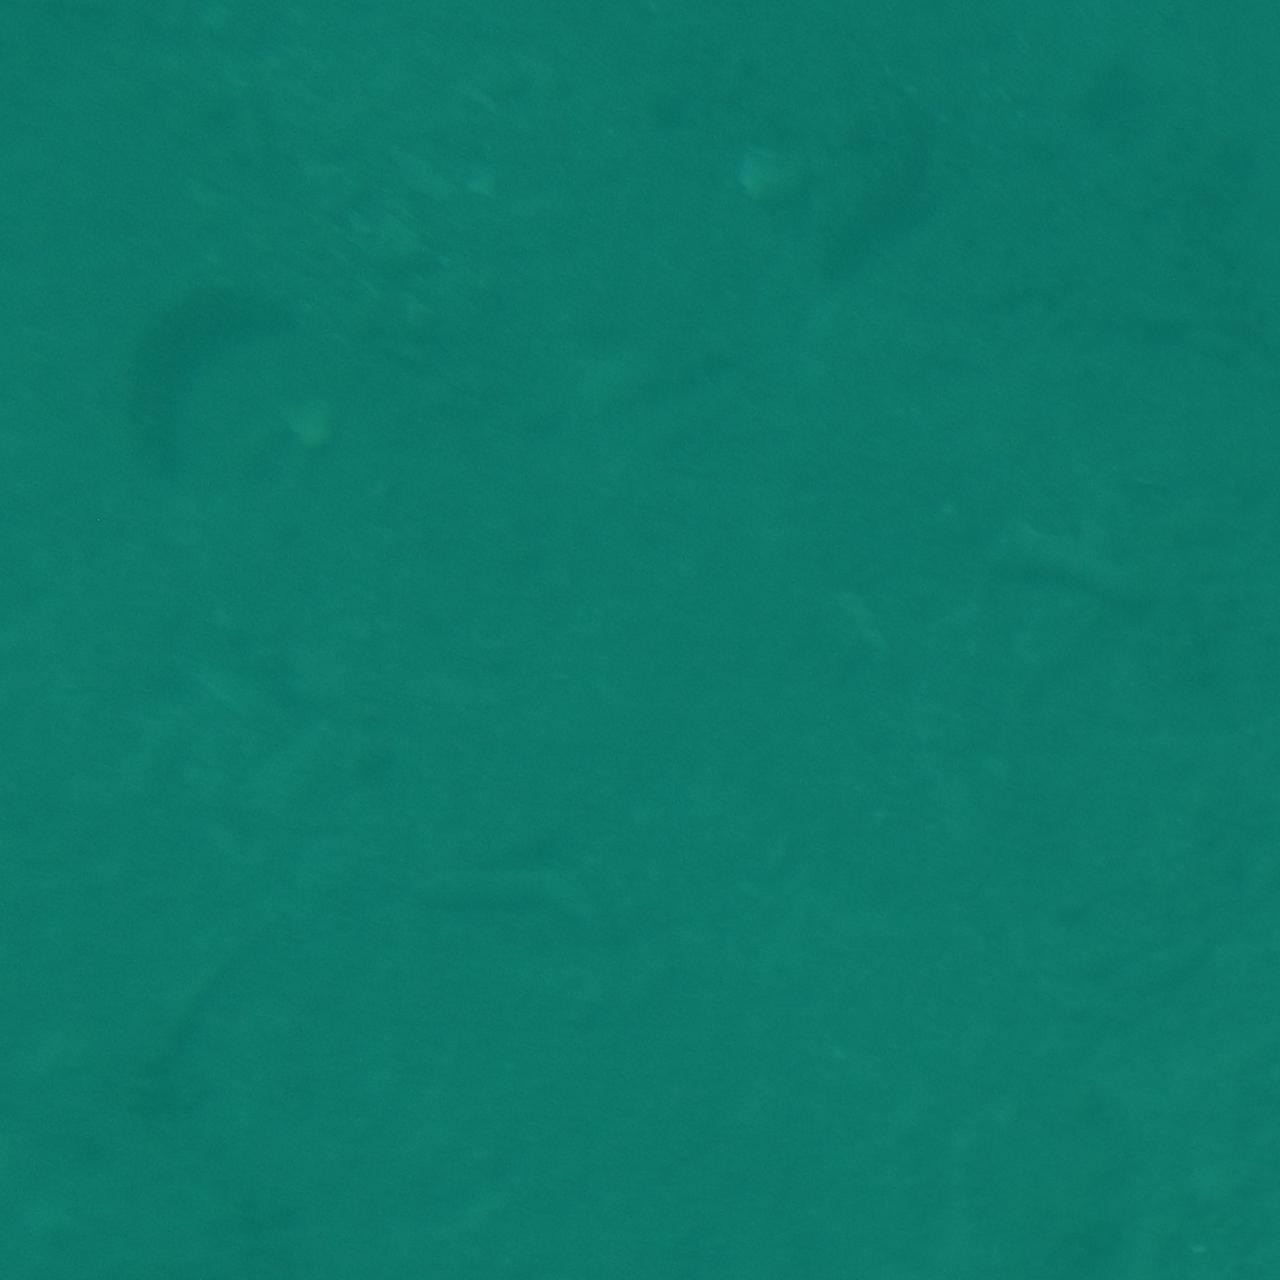Holothuria tubulosa: (97, 247, 338, 515), (340, 835, 652, 964), (947, 504, 1178, 654)
